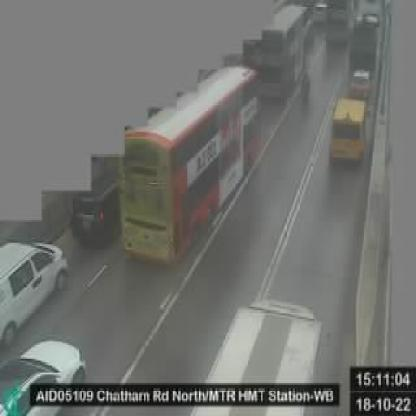Bus: (122, 66, 258, 264), (246, 6, 317, 104)
Car: (1, 242, 69, 353), (3, 340, 87, 413), (330, 98, 369, 166), (349, 66, 374, 98)
